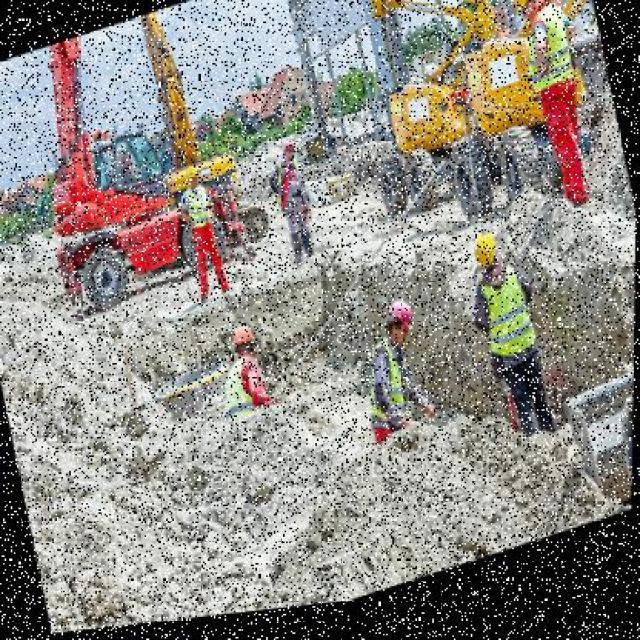helmet: (471, 237, 503, 285), (389, 299, 419, 340), (507, 0, 538, 24), (232, 326, 254, 350)
vest: (479, 277, 548, 386), (517, 12, 584, 112), (357, 342, 413, 447), (216, 349, 272, 427), (185, 192, 215, 238)
